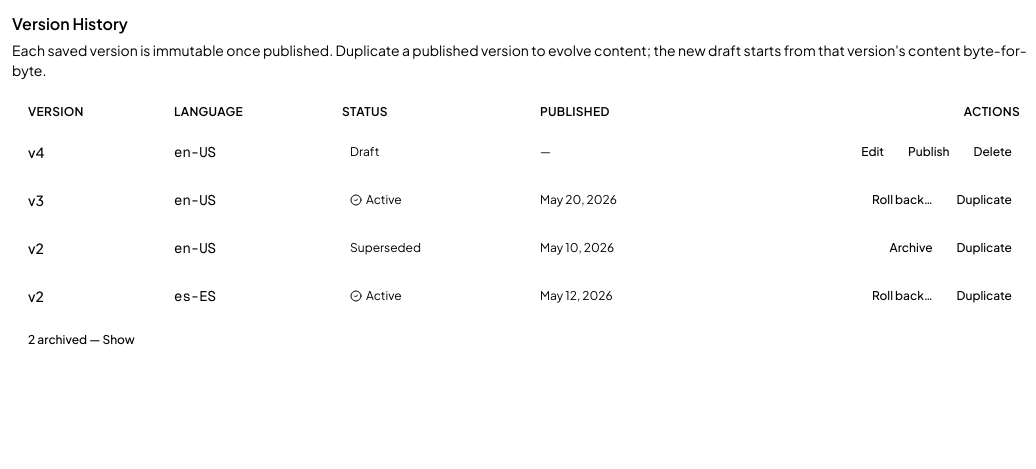
Test: VersionsTab — Wave ED8 lifecycle table (flag ON) › archived-row collapse › clicking the toggle reveals the archived rows and flips the label to 'Hide'
The width and height of the screenshot is (1036, 469).
What coordinates should you click on to do the following:
click the button with test id "toggle-archived-versions"
I would click on:
 (81, 340)
Its box is [28,332,135,348].
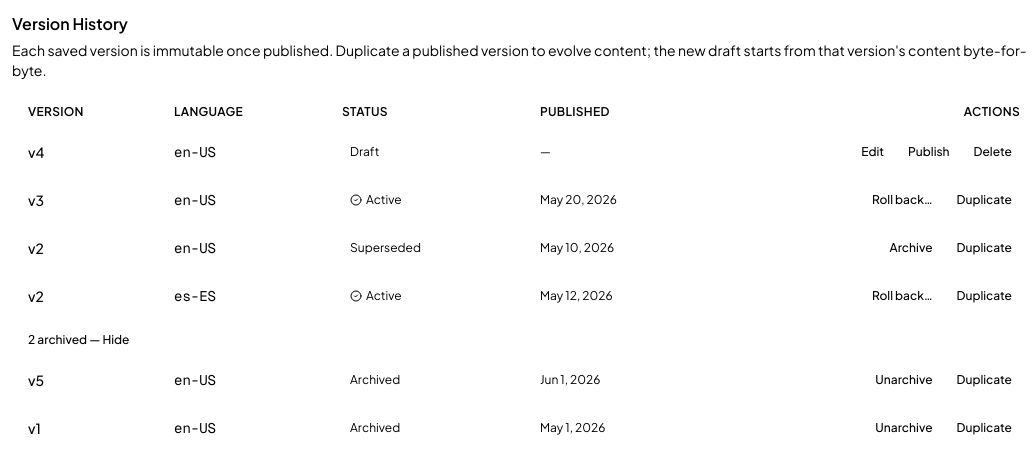
Check: the row with test id "version-row-en_v5" is shown, box [12,356,1035,404]
Check: the row with test id "version-row-en_v1" is shown, box [12,404,1035,452]
Check: the button with test id "toggle-archived-versions" shows "Hide", box [28,332,129,348]
